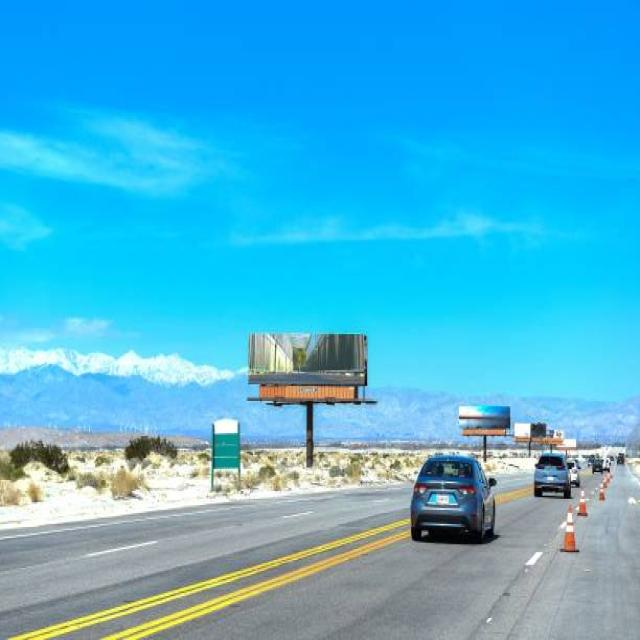Billboard_LHS: (234, 317, 390, 413)
Billboard_small: (451, 390, 515, 443), (208, 410, 244, 481), (518, 401, 544, 450)
Roadcorner: (8, 490, 242, 546)
Roadlane: (17, 495, 335, 582), (474, 507, 568, 638)
